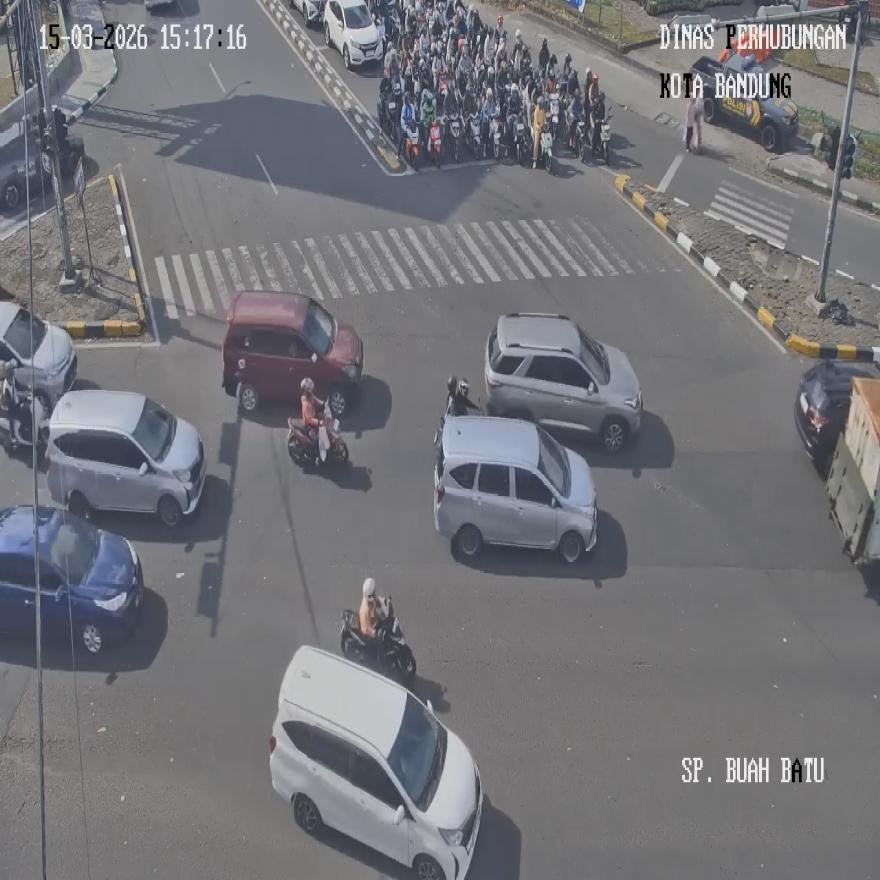Motor: (267, 644, 482, 878), (433, 411, 598, 561), (483, 310, 642, 452), (44, 388, 206, 526), (0, 502, 143, 654), (221, 290, 363, 416), (690, 52, 798, 152), (792, 358, 880, 474), (0, 299, 78, 428), (323, 0, 383, 71)
Truk: (340, 596, 416, 684), (288, 400, 348, 468), (0, 382, 50, 458), (376, 94, 397, 144), (465, 115, 484, 159), (596, 112, 612, 164), (403, 121, 420, 169), (540, 128, 556, 172), (513, 117, 527, 165), (428, 119, 442, 166), (446, 115, 460, 161), (569, 120, 584, 160), (489, 117, 502, 160)
